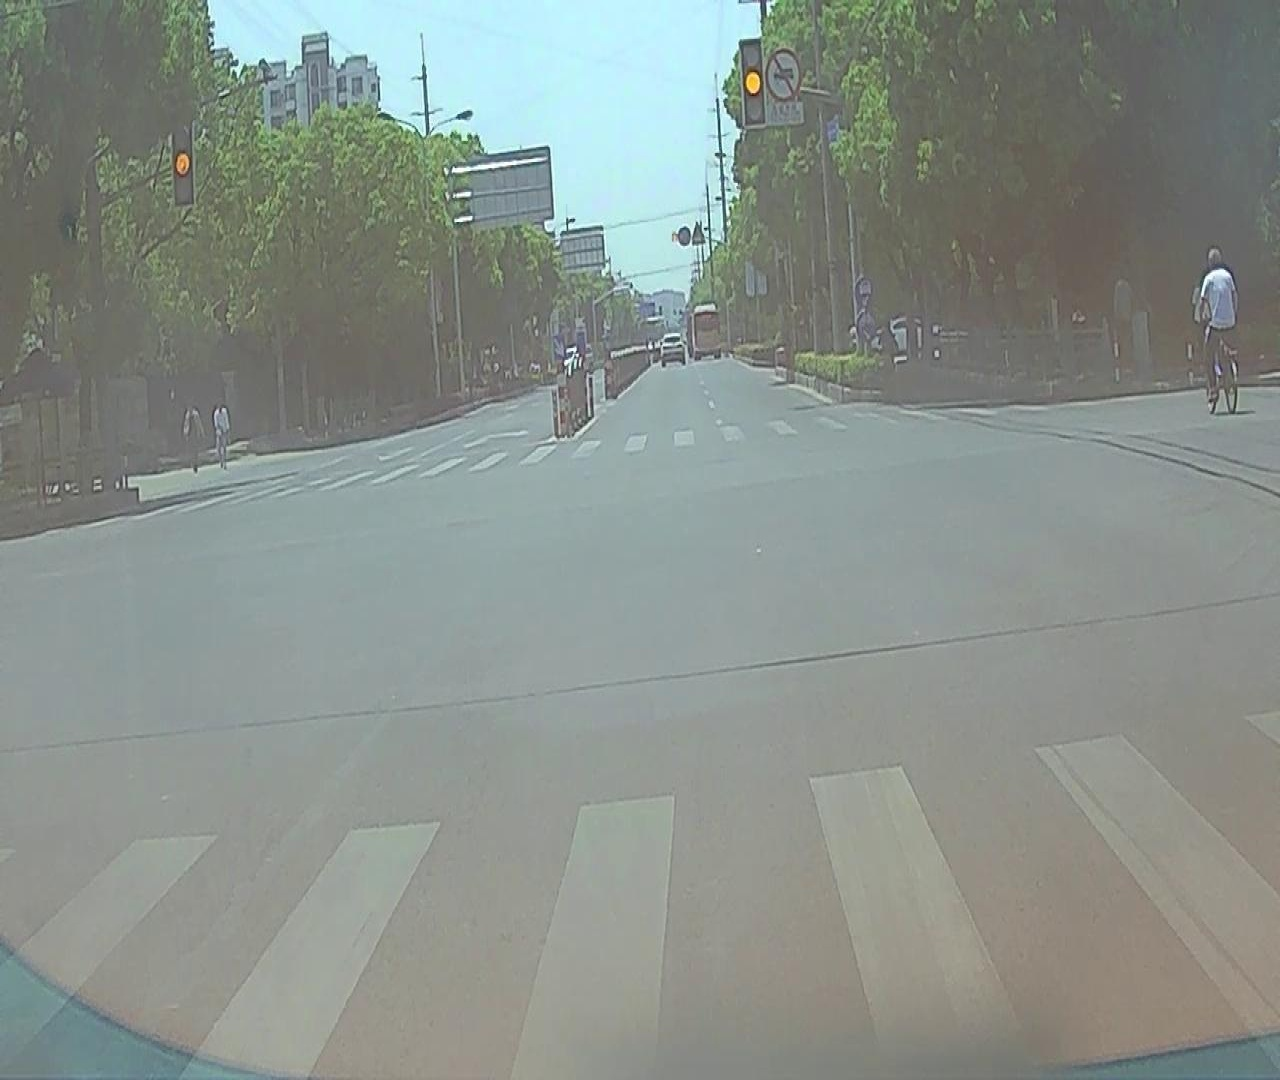yellow: (742, 40, 764, 126), (174, 123, 193, 204)
